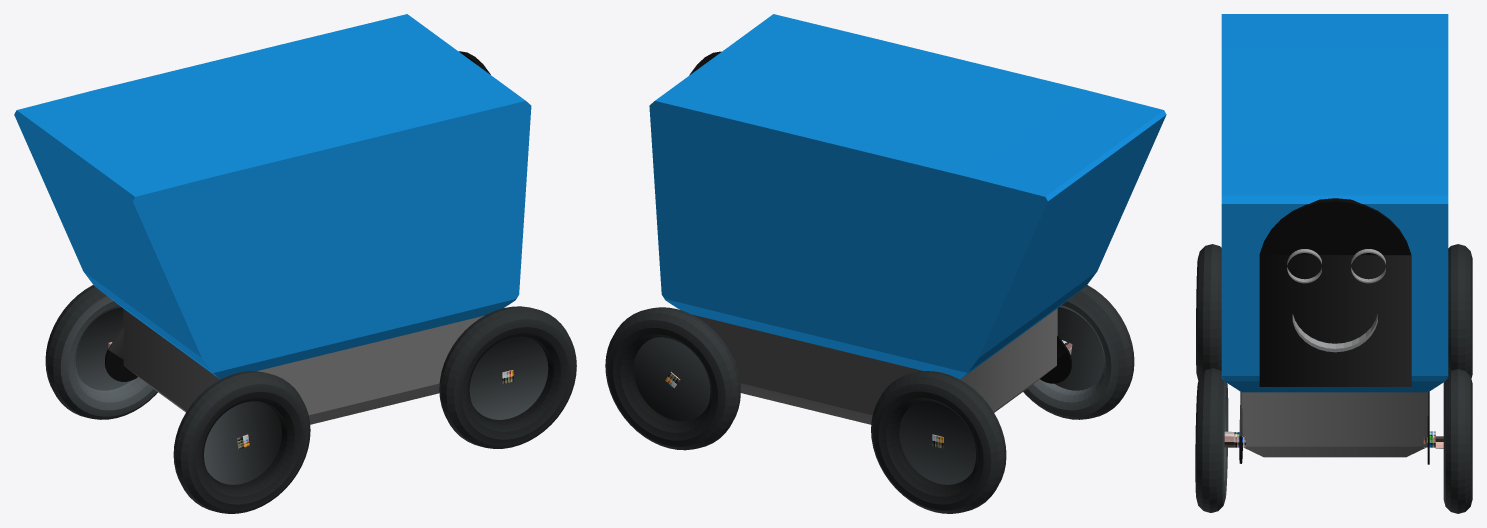
File: RobotDelivery4.fbx
The picture shows the model from 3 angles, left to right: view 1: azimuth 30°, elevation 25°; view 2: azimuth 150°, elevation 25°; view 3: azimuth 270°, elevation 25°; orthographic projection. The views are drawn at different scales.
Parts seen in each view (by area): view 1: UpperBody, Wheel_FR, Wheel_BR, LowerBody, Wheel_BL, Wheel_BL.handle; view 2: UpperBody, LowerBody, Wheel_BL, Wheel_FL, Wheel_BR, Wheel_BR.handle; view 3: UpperBody, Face, LowerBody, Wheel_FR, Wheel_FL, Wheel_BR, Wheel_BL, Face.smile, Wheel_FR.handle, Face.eyeL, Face.eyeR, Wheel_FL.handle.
Boxes of the visible parts, x1,y1,x2,y2 form: UpperBody: (14, 14, 531, 379); Wheel_FR: (439, 306, 576, 448); Wheel_BR: (173, 371, 310, 513); LowerBody: (123, 309, 484, 424); Wheel_BL: (45, 285, 157, 419); Wheel_BL.handle: (105, 326, 137, 381); UpperBody: (649, 14, 1166, 379); LowerBody: (692, 308, 1057, 424); Wheel_BL: (871, 371, 1006, 513); Wheel_FL: (605, 307, 740, 450); Wheel_BR: (1023, 285, 1134, 419); Wheel_BR.handle: (1040, 335, 1071, 383); UpperBody: (1221, 14, 1448, 392); Face: (1259, 198, 1411, 386); LowerBody: (1241, 392, 1428, 457); Wheel_FR: (1195, 368, 1234, 512); Wheel_FL: (1435, 369, 1472, 513); Wheel_BR: (1196, 244, 1221, 380); Wheel_BL: (1448, 244, 1472, 378); Face.smile: (1292, 314, 1377, 352); Wheel_FR.handle: (1234, 391, 1245, 463); Face.eyeL: (1351, 249, 1385, 283); Face.eyeR: (1287, 249, 1321, 283); Wheel_FL.handle: (1423, 391, 1435, 464).
Size of the model in its own units: 829 by 613 by 478.
Materials: 2 (1 with a texture image).
